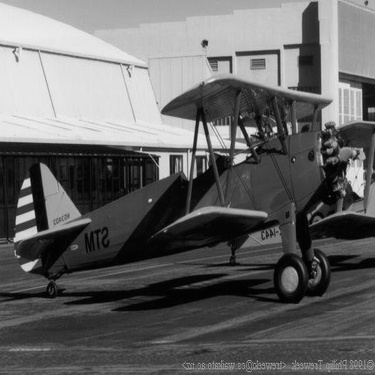airplane: (4, 65, 361, 305)
